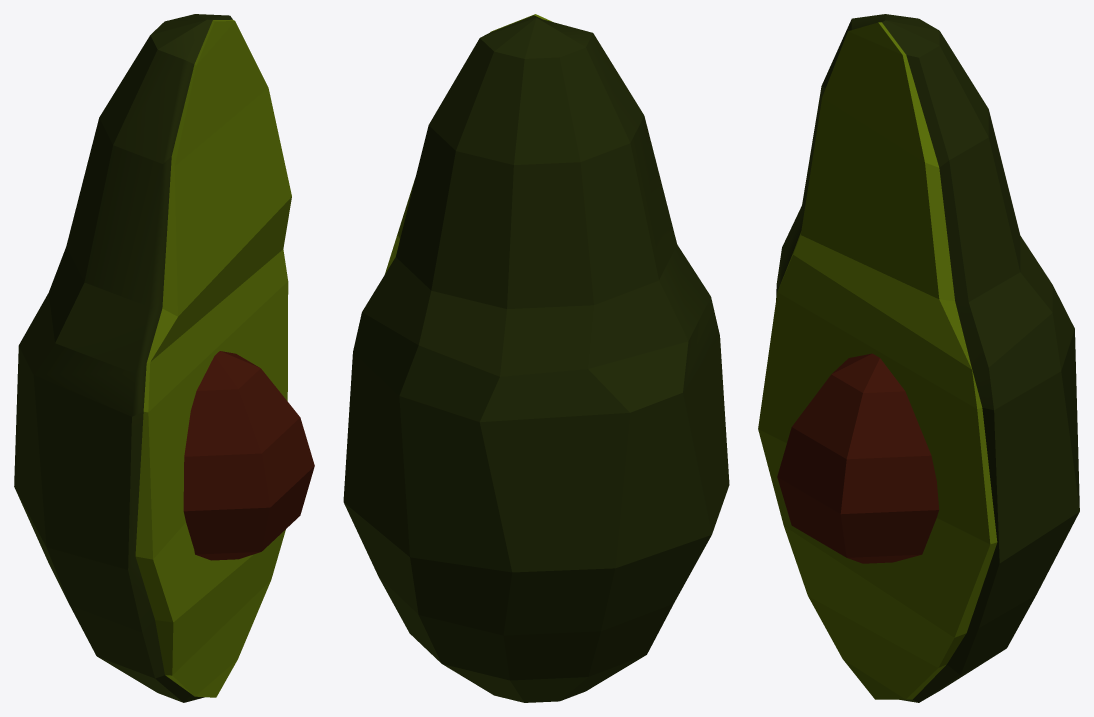
Rendered from Avocado.fbx.
3 renders of one model, left to right at view 1: azimuth 30°, elevation 25°; view 2: azimuth 150°, elevation 25°; view 3: azimuth 270°, elevation 25°, orthographic.
Visible parts, largest first — view 1: polySurface3; view 2: polySurface3; view 3: polySurface3.
Part boxes in pixels (x1,y1,x2,y2): polySurface3: (14, 14, 314, 702); polySurface3: (343, 14, 729, 702); polySurface3: (758, 14, 1079, 702).
Size of the model in its own units: 1.9 by 4.04 by 1.74.
